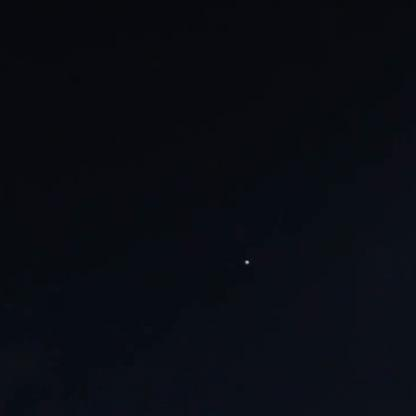ball: (242, 256, 250, 269)
